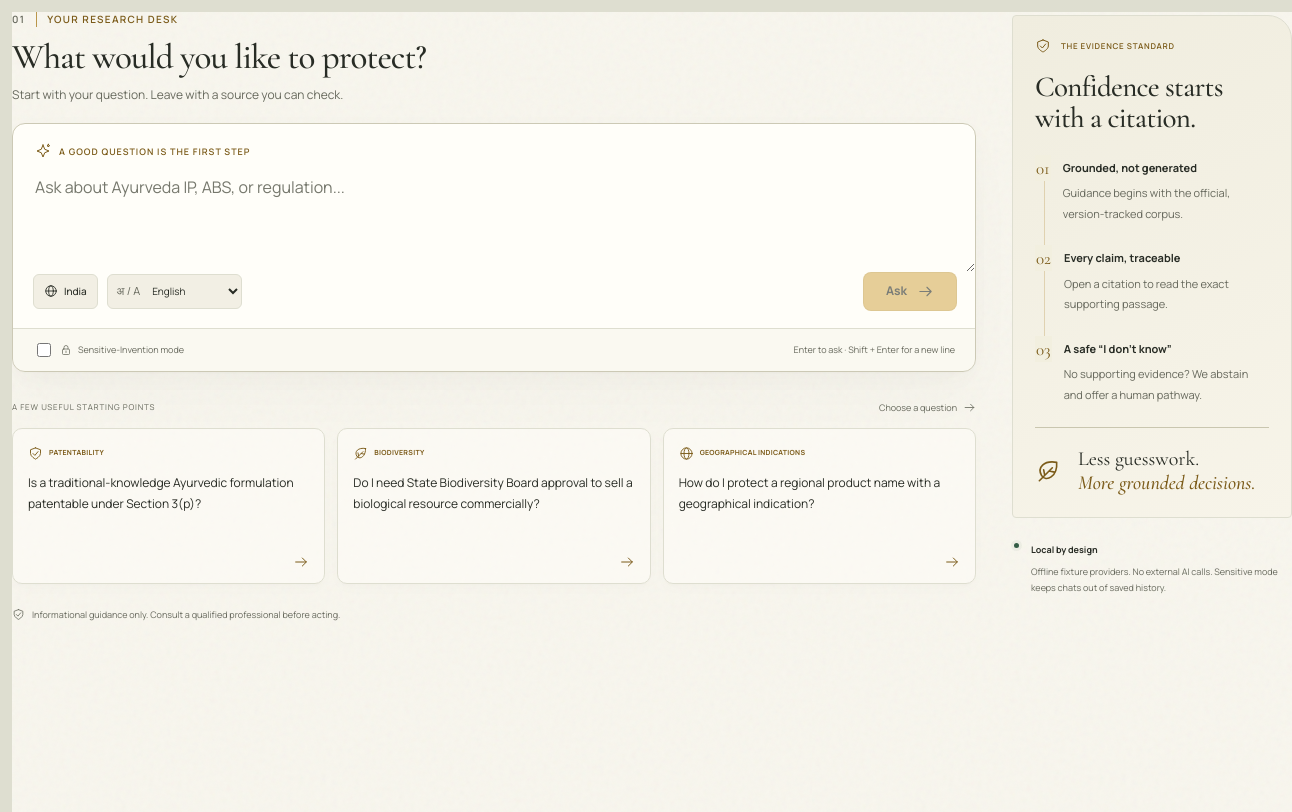
it: accessible research desk › keeps a failed question editable for retry
The image size is (1292, 812).
Type "My formulation" into the text box named "Your Ayurveda IP or regulatory question" at (494, 215), box [13,159,975,272]
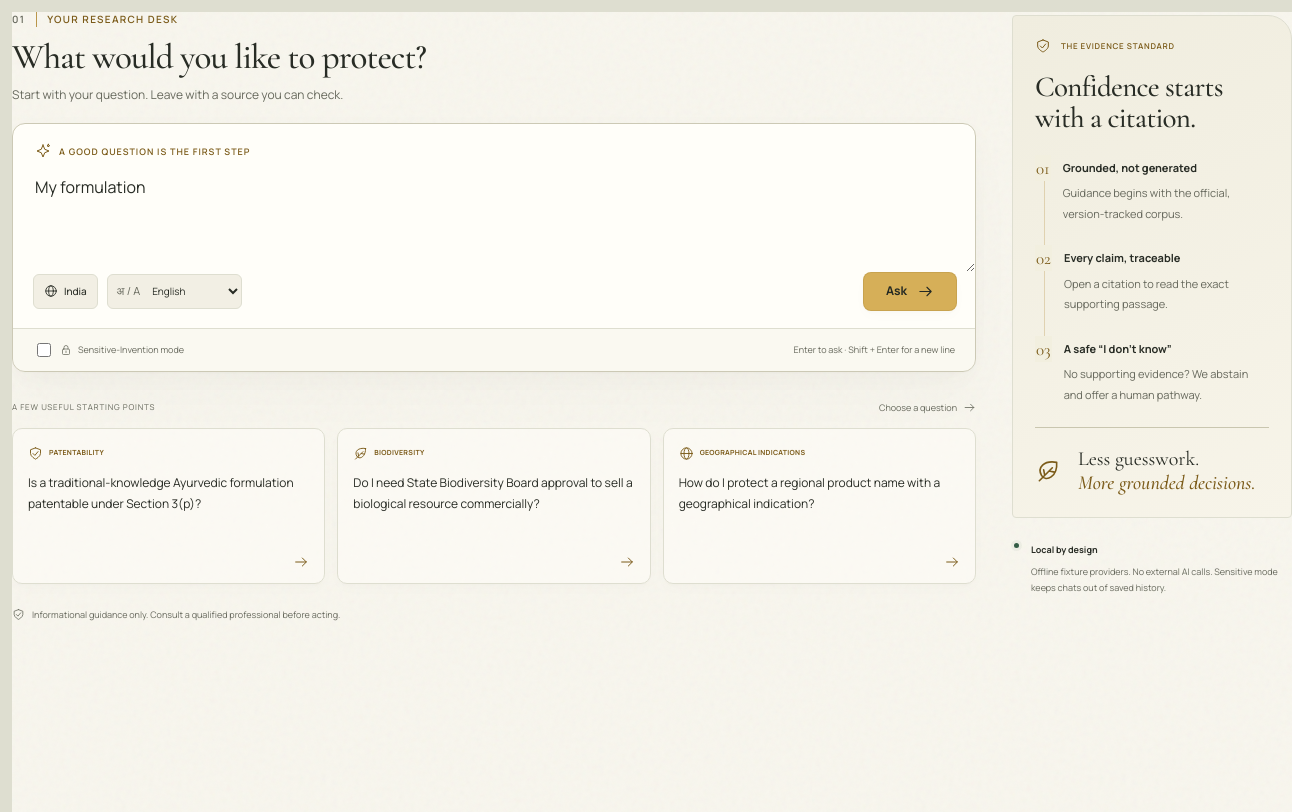
Click the button "Ask" at (910, 291), box [863,272,957,311]
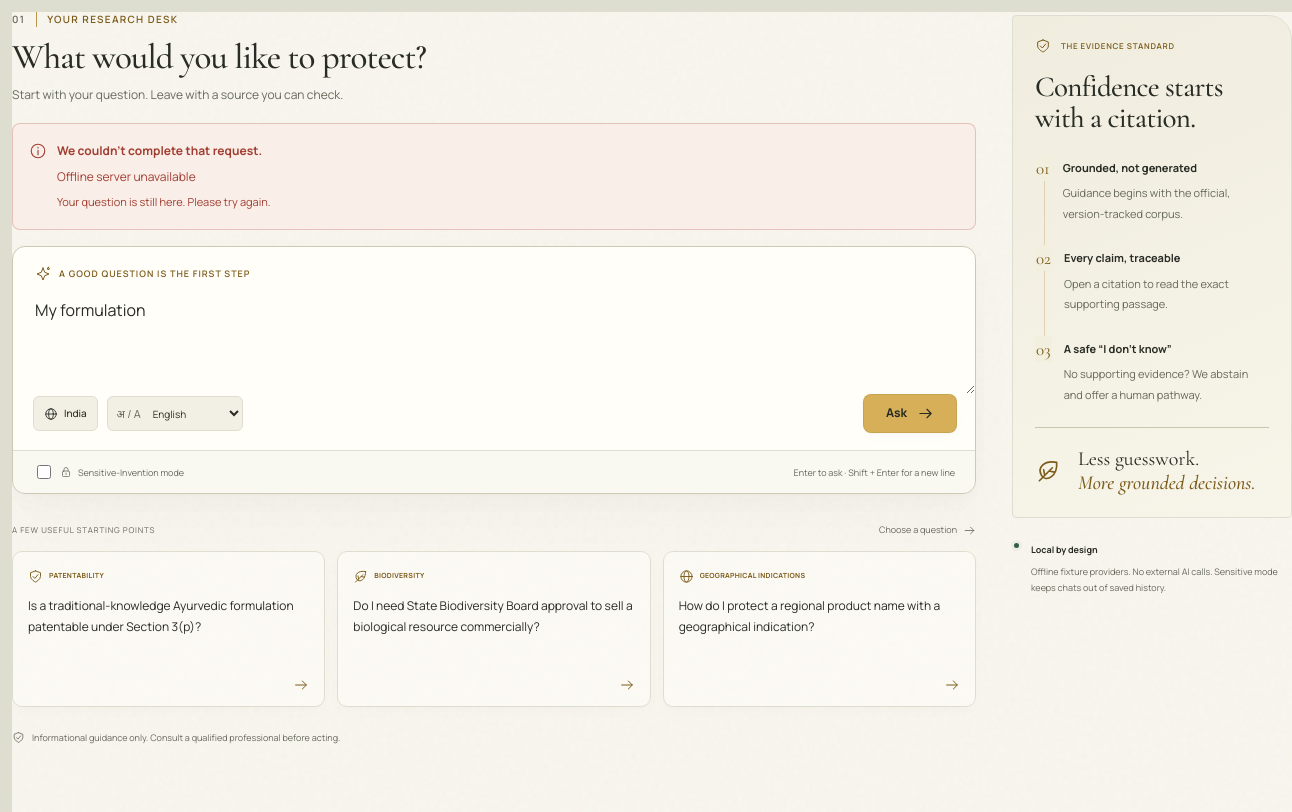
Expected: the button "Ask" is enabled, [863,394,957,433]
Expected: the message shows "Offline server unavailable", [57,168,196,185]
